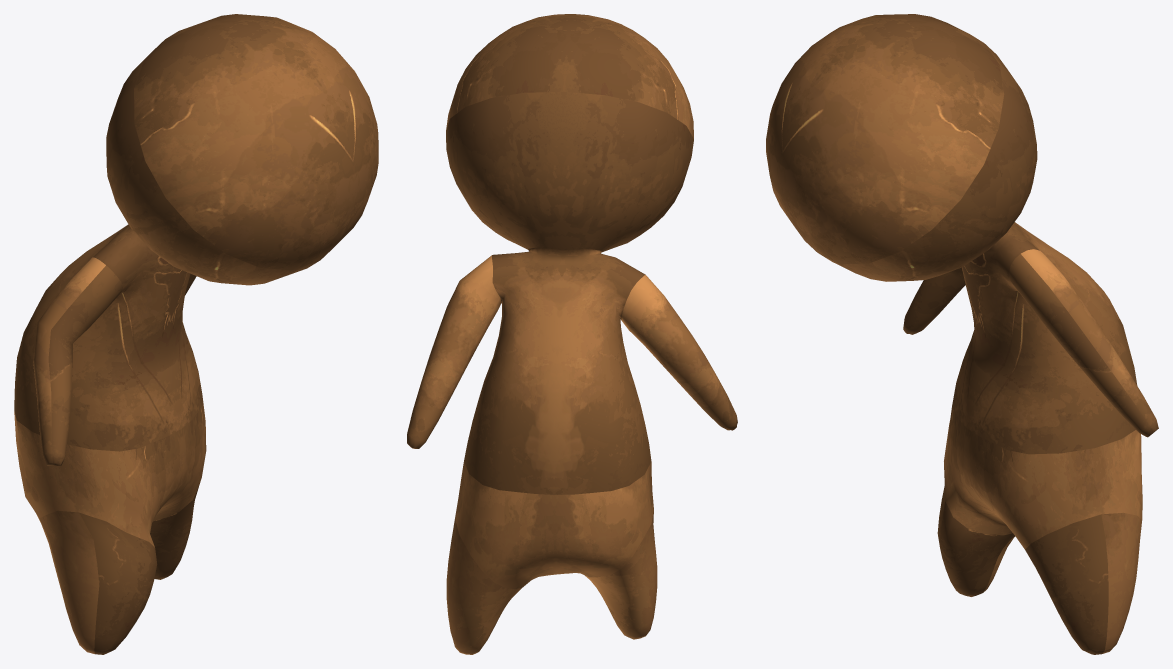
File: personagem.fbx
3 views of the same model, side by side, from view 1: azimuth 30°, elevation 25°; view 2: azimuth 150°, elevation 25°; view 3: azimuth 270°, elevation 25° (orthographic). The views are drawn at different scales.
Parts seen in each view (by area): view 1: polySurface66; view 2: polySurface66; view 3: polySurface66.
Part boxes in pixels (box(x1,y1,x2,y2)): polySurface66: box(14, 14, 378, 654); polySurface66: box(407, 14, 737, 654); polySurface66: box(766, 14, 1158, 654).
Bounding box in the file's own units: 29.94 × 57.57 × 33.06.
